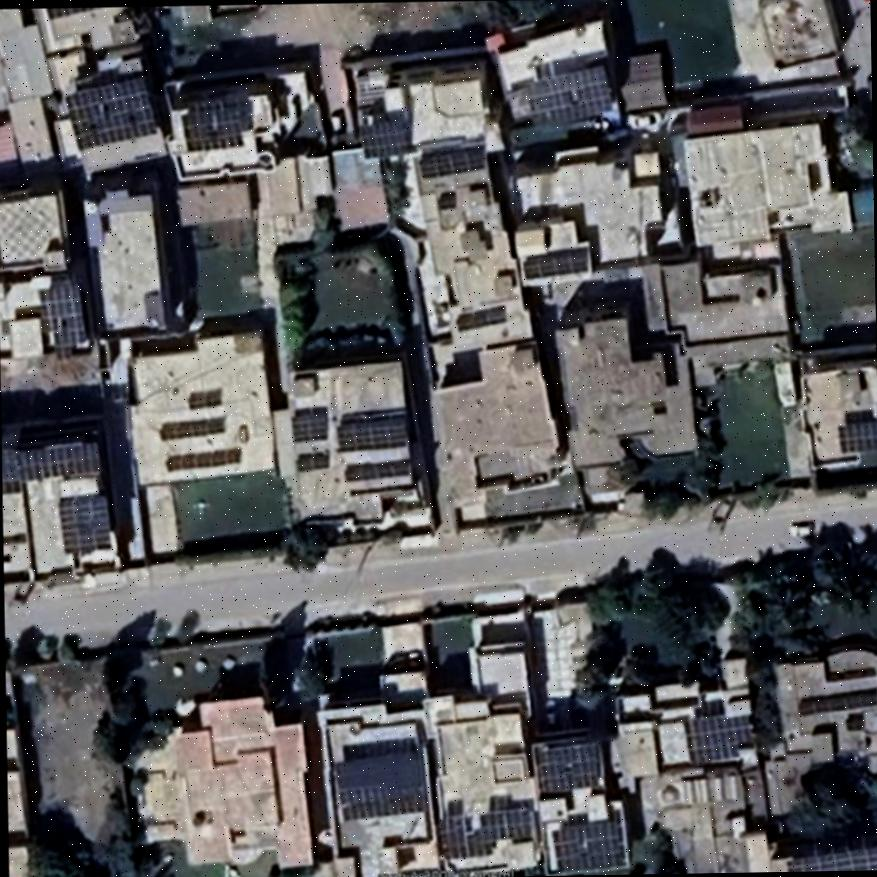Solarpanel: (59, 72, 157, 151), (330, 752, 423, 820), (525, 64, 609, 131), (433, 809, 529, 859), (1, 440, 101, 482), (35, 279, 86, 355), (553, 817, 626, 870), (184, 97, 253, 147), (531, 739, 596, 792), (683, 718, 754, 766), (55, 489, 108, 550), (355, 117, 415, 157), (420, 144, 485, 180), (786, 844, 877, 869), (334, 417, 406, 448), (524, 246, 587, 276), (835, 418, 877, 455), (342, 458, 407, 480), (291, 410, 327, 439), (293, 455, 326, 471)
